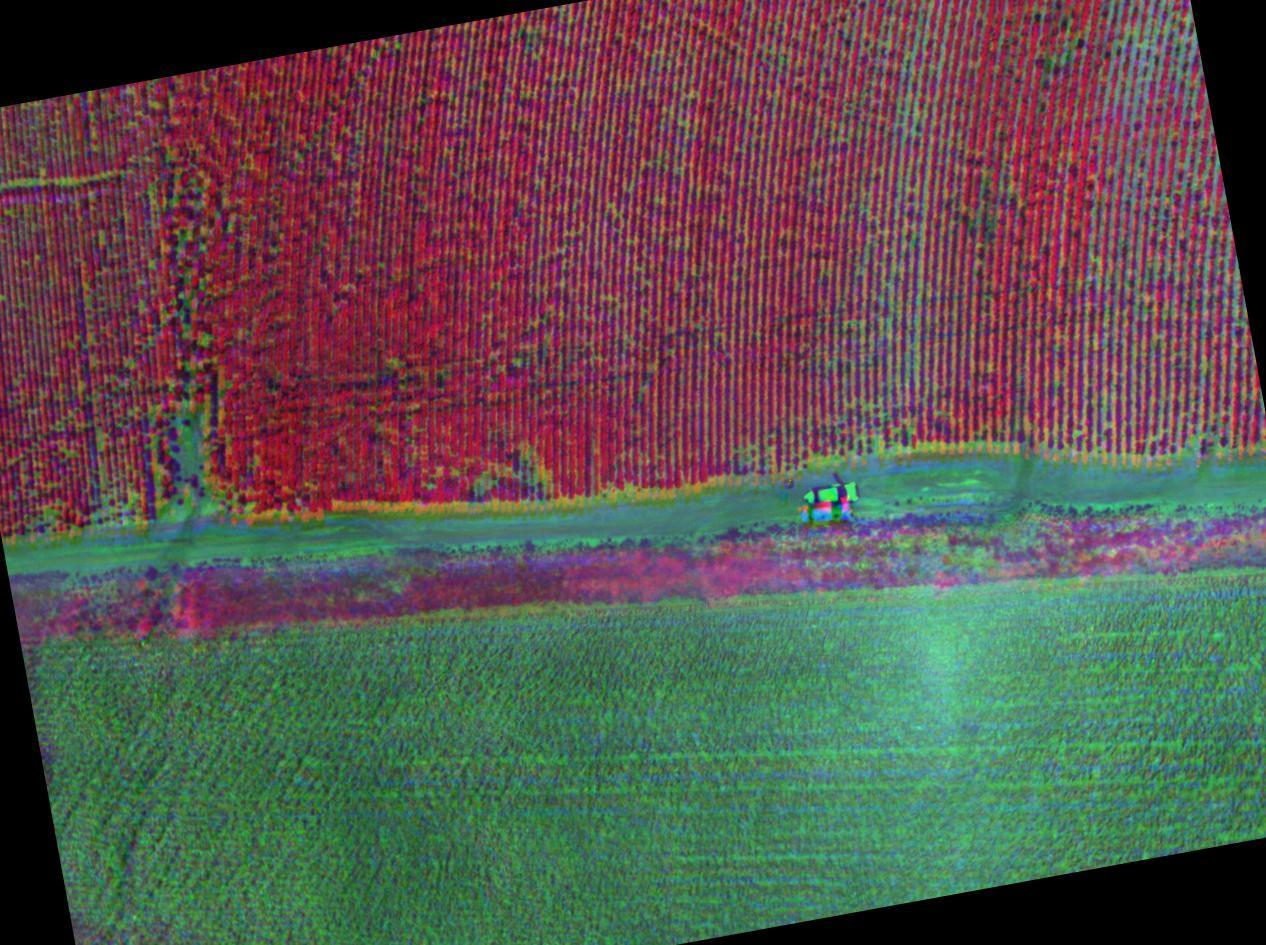dc: (159, 457, 226, 518), (6, 165, 126, 195), (885, 291, 942, 354), (1123, 21, 1180, 81), (163, 395, 213, 454), (94, 484, 153, 523)
